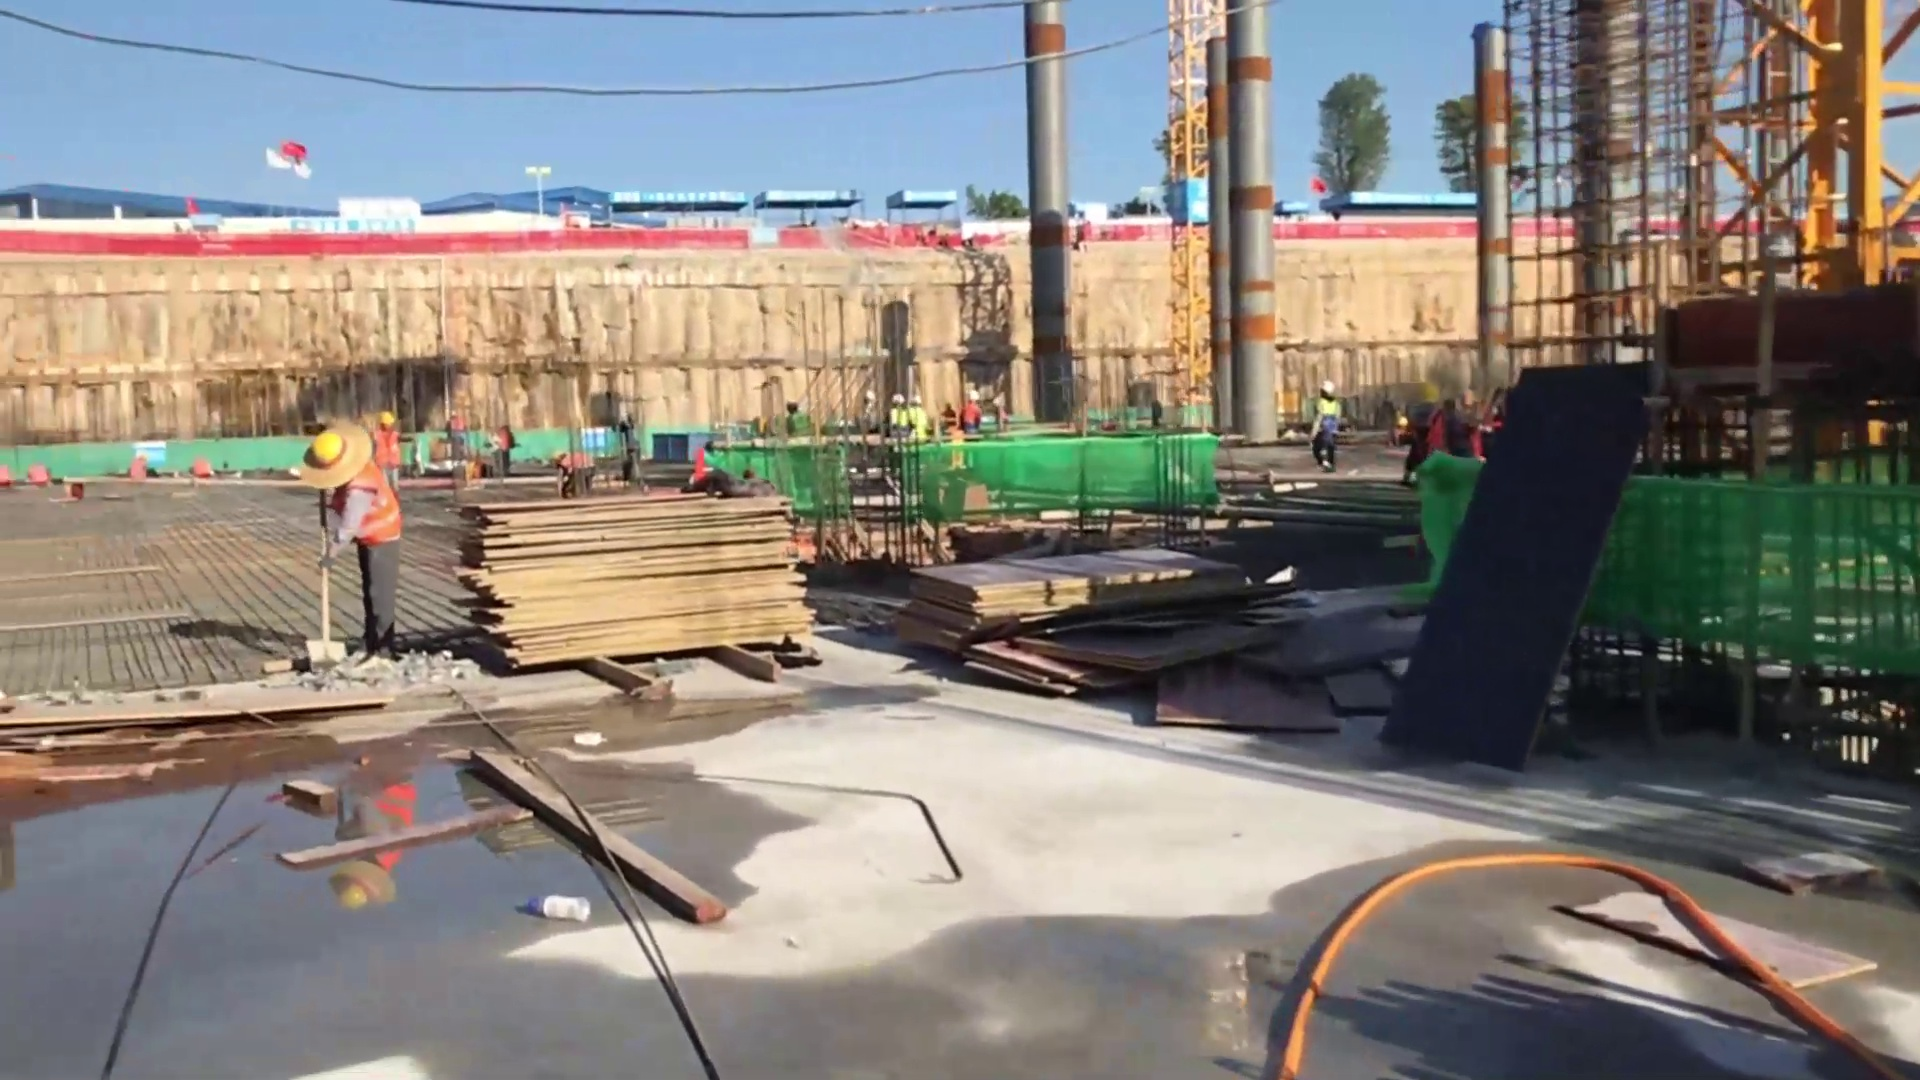board: (469, 487, 816, 649), (924, 549, 1233, 673)
helmet: (308, 428, 349, 468)
person: (306, 423, 397, 665), (1411, 377, 1447, 473), (1313, 381, 1341, 477), (377, 408, 405, 493), (550, 451, 594, 496), (959, 389, 986, 437), (493, 424, 516, 479), (444, 409, 463, 470), (889, 393, 909, 448), (859, 390, 879, 440), (911, 396, 929, 442)
vest: (338, 465, 403, 538)
